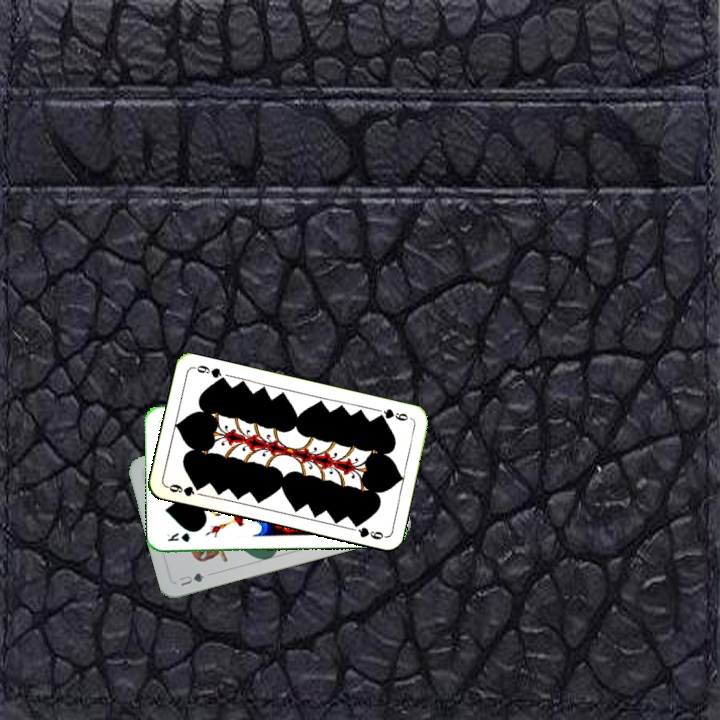G9: (163, 480, 204, 499), (373, 405, 414, 424)
GK: (163, 529, 193, 544)
GU: (175, 569, 208, 589)
